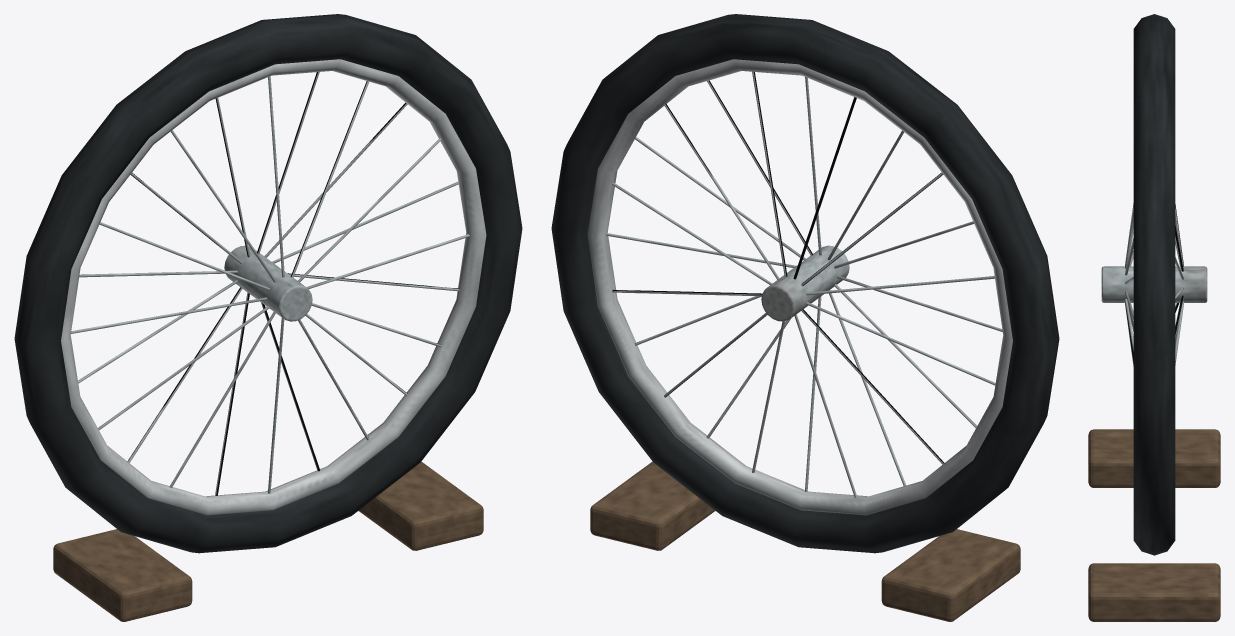
The model's file is GR_BicycleWheel_04.glb.
The picture shows the model from 3 angles, left to right: view 1: azimuth 30°, elevation 25°; view 2: azimuth 150°, elevation 25°; view 3: azimuth 270°, elevation 25°; orthographic projection. The views are drawn at different scales.
Visible parts, largest first — view 1: Static; view 2: Static; view 3: Static.
Boxes of the visible parts, left/top/right/bottom form: Static: left=14, top=14, right=522, bottom=621; Static: left=551, top=14, right=1059, bottom=621; Static: left=1088, top=14, right=1220, bottom=621.
Size of the model in its own units: 0.62 by 0.63 by 0.15.
1 material, 1 textured.
